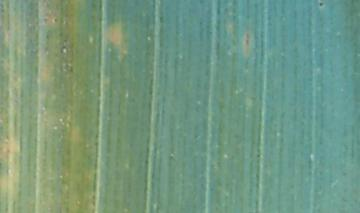tarspot: (318, 1, 324, 8), (53, 16, 58, 23)
